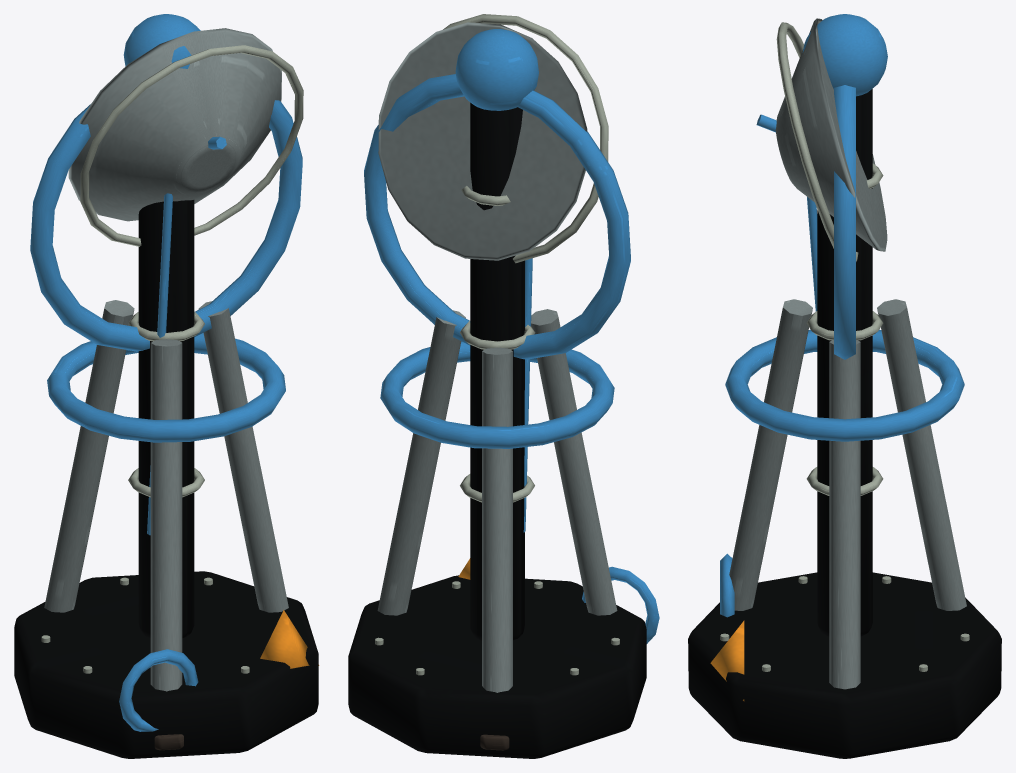
Rendered from beacon-signal-standard.glb.
3 views of the same model, side by side, from view 1: azimuth 30°, elevation 25°; view 2: azimuth 150°, elevation 25°; view 3: azimuth 270°, elevation 25° (orthographic). The views are drawn at different scales.
Parts seen in each view (by area): view 1: Beacon_Base, Beacon_Dish, Beacon_Mast, Beacon_Array_High, Beacon_Leg_2, Beacon_Leg_0, Beacon_Array_Low, Beacon_Leg_1, Beacon_Dish_Rim, Beacon_Light, PORT_Signal.002, PORT_Power.004 (+3 smaller); view 2: Beacon_Base, Beacon_Dish, Beacon_Array_High, Beacon_Mast, Beacon_Leg_1, Beacon_Leg_0, Beacon_Array_Low, Beacon_Leg_2, Beacon_Light, Beacon_Dish_Rim, PORT_Signal.002, Beacon_Signal_Loom (+2 smaller); view 3: Beacon_Base, Beacon_Mast, Beacon_Leg_0, Beacon_Dish, Beacon_Leg_1, Beacon_Array_Low, Beacon_Leg_2, Beacon_Array_High, Beacon_Light, Beacon_Dish_Rim, PORT_Power.004, PORT_Signal.002 (+3 smaller).
Boxes of the visible parts, left/top/right/bottom form: Beacon_Base: left=14, top=571, right=318, bottom=758; Beacon_Dish: left=68, top=28, right=281, bottom=221; Beacon_Mast: left=138, top=200, right=194, bottom=637; Beacon_Array_High: left=30, top=100, right=302, bottom=351; Beacon_Leg_2: left=150, top=339, right=182, bottom=691; Beacon_Leg_0: left=198, top=301, right=288, bottom=612; Beacon_Array_Low: left=47, top=333, right=285, bottom=442; Beacon_Leg_1: left=44, top=300, right=134, bottom=612; Beacon_Dish_Rim: left=80, top=45, right=303, bottom=246; Beacon_Light: left=123, top=14, right=200, bottom=68; PORT_Signal.002: left=119, top=649, right=198, bottom=731; PORT_Power.004: left=260, top=610, right=319, bottom=668; Beacon_Base: left=348, top=575, right=646, bottom=758; Beacon_Dish: left=378, top=22, right=587, bottom=260; Beacon_Array_High: left=364, top=74, right=630, bottom=359; Beacon_Mast: left=470, top=102, right=524, bottom=640; Beacon_Leg_1: left=482, top=347, right=512, bottom=692; Beacon_Leg_0: left=377, top=310, right=465, bottom=615; Beacon_Array_Low: left=380, top=341, right=614, bottom=448; Beacon_Leg_2: left=531, top=309, right=617, bottom=615; Beacon_Light: left=455, top=29, right=538, bottom=110; Beacon_Dish_Rim: left=443, top=14, right=608, bottom=263; PORT_Signal.002: left=582, top=566, right=659, bottom=643; Beacon_Signal_Loom: left=523, top=258, right=532, bottom=532; Beacon_Base: left=688, top=572, right=1001, bottom=758; Beacon_Mast: left=817, top=89, right=872, bottom=636; Beacon_Leg_0: left=829, top=339, right=860, bottom=689; Beacon_Dish: left=775, top=18, right=887, bottom=251; Beacon_Leg_1: left=877, top=299, right=966, bottom=610; Beacon_Array_Low: left=725, top=329, right=964, bottom=441; Beacon_Leg_2: left=729, top=299, right=812, bottom=610; Beacon_Array_High: left=834, top=85, right=855, bottom=359; Beacon_Light: left=802, top=14, right=887, bottom=96; Beacon_Dish_Rim: left=776, top=22, right=858, bottom=261; PORT_Power.004: left=710, top=620, right=744, bottom=701; PORT_Signal.002: left=720, top=553, right=734, bottom=617.
Bounding box in the file's own units: 0.6933 × 1.65 × 0.6937.
6 materials, 6 textured.
